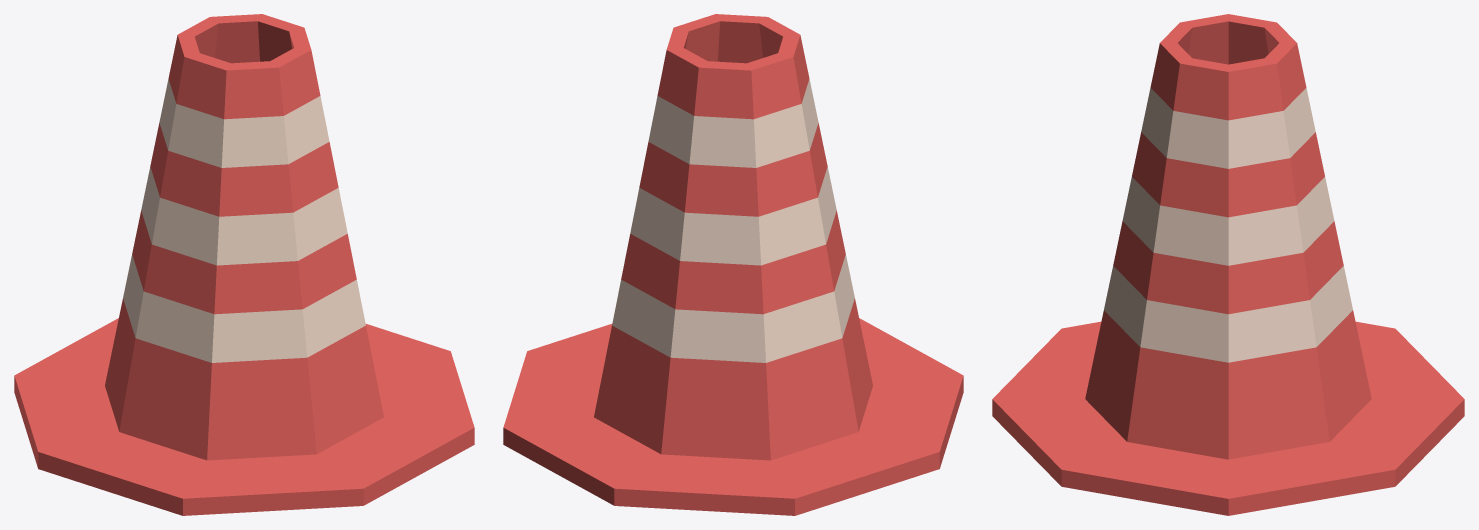
File: Cono.fbx
3 views of the same model, side by side, from view 1: azimuth 30°, elevation 25°; view 2: azimuth 150°, elevation 25°; view 3: azimuth 270°, elevation 25° (orthographic).
Visible parts, largest first — view 1: cone; view 2: cone; view 3: cone.
Boxes of the visible parts, <box> form: cone: <box>14,14,474,515</box>; cone: <box>503,14,963,515</box>; cone: <box>992,14,1464,515</box>.
Bounding box in the file's own units: 82.38 × 71.83 × 82.38.
